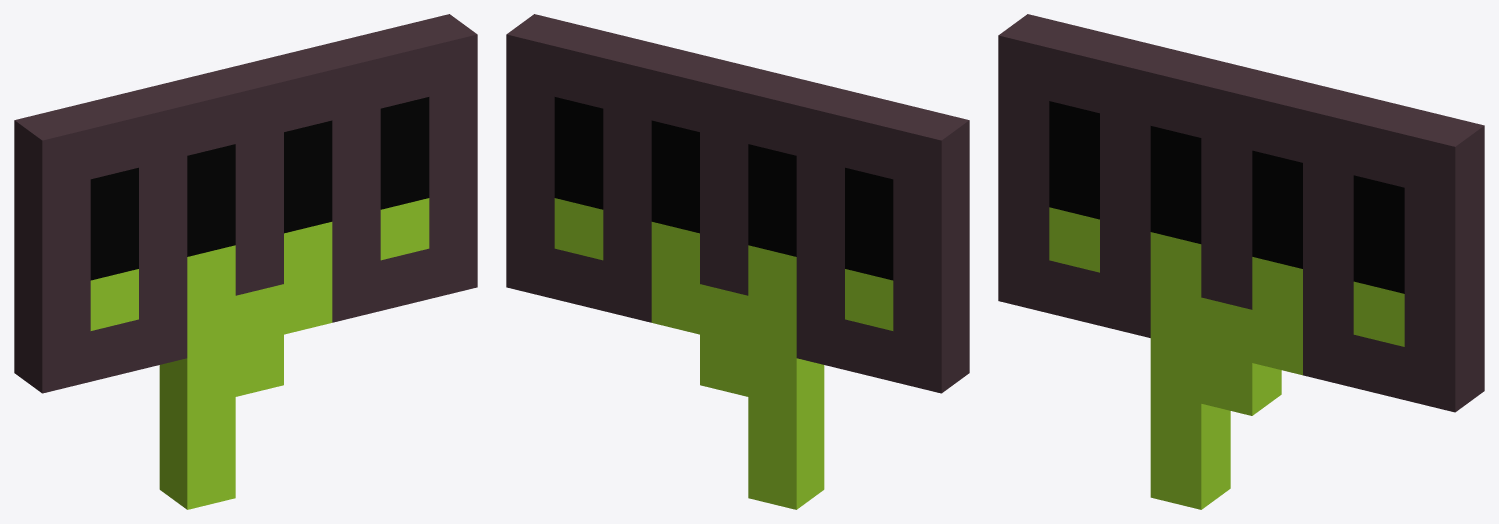
Rendered from wall_grate_b_leaking_sewer.obj.
The picture shows the model from 3 angles, left to right: view 1: azimuth 30°, elevation 25°; view 2: azimuth 150°, elevation 25°; view 3: azimuth 330°, elevation 25°; orthographic projection. The views are drawn at different scales.
Size of the model in its own units: 0.9 by 0.8 by 0.1.
1 material, 1 textured.
